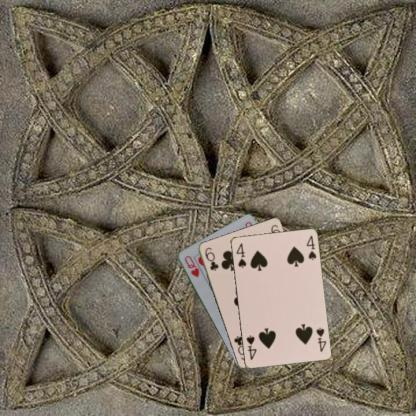4s: (233, 240, 248, 269), (313, 325, 328, 353)
6c: (202, 244, 220, 272)
Qh: (182, 253, 200, 279)
